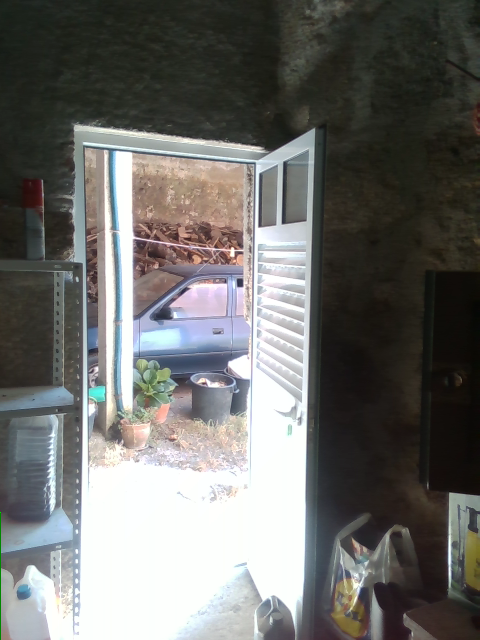open: (74, 125, 332, 631)
